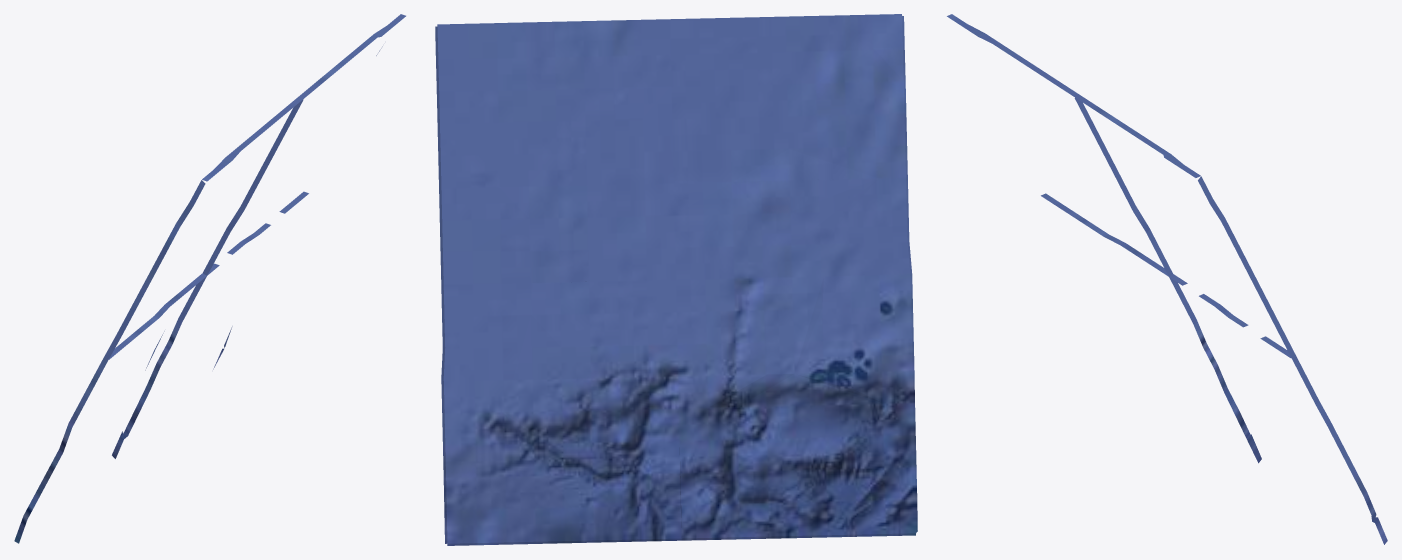
3 renders of one model, left to right at view 1: azimuth 30°, elevation 25°; view 2: azimuth 150°, elevation 25°; view 3: azimuth 270°, elevation 25°, orthographic. The views are drawn at different scales.
Bounding box in the file's own units: 156524 × 143228 × 135986.
Materials: 1 (1 with a texture image).
